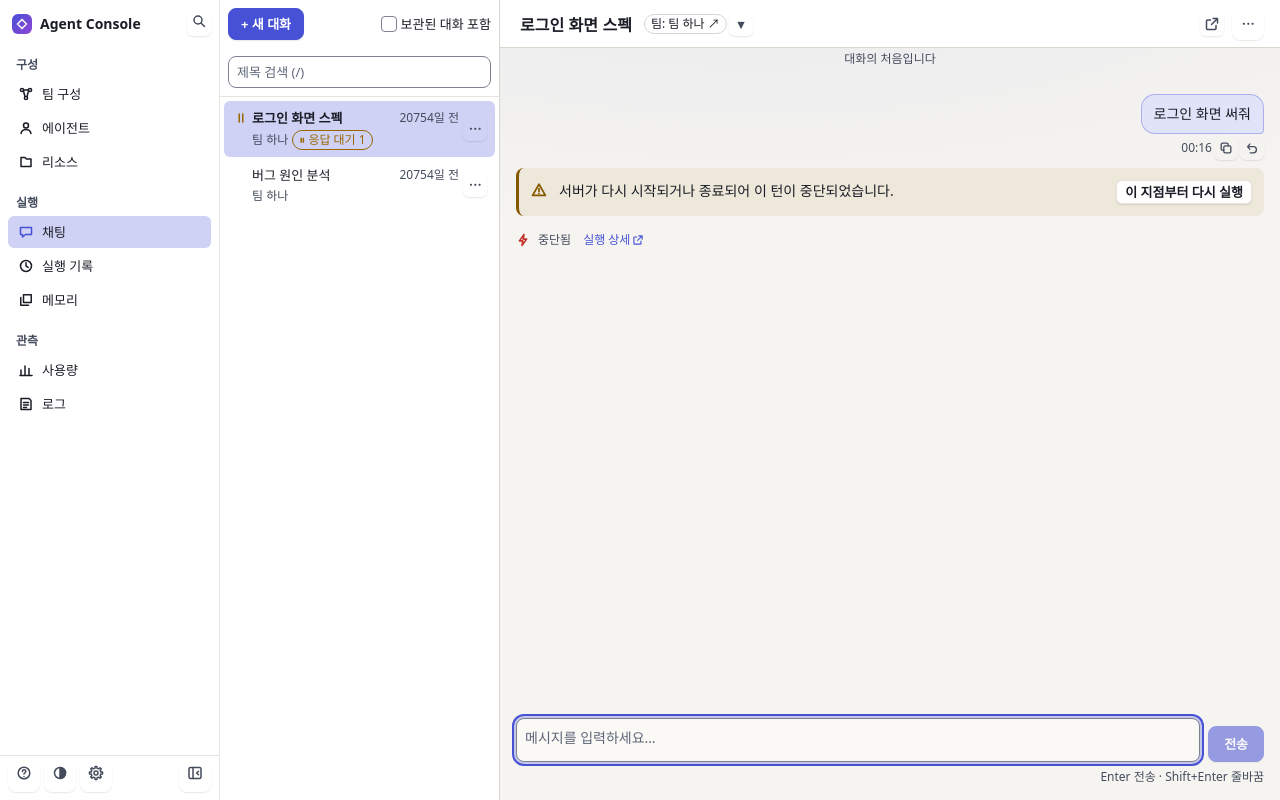
Scenario: 끊긴 턴 이어 가기 › 422는 해당 행에 서버 메시지를 붙이고 체크를 풀며, 선택이 없으면 실행이 비활성
This screenshot has width=1280, height=800.
Click the button "이 지점부터 다시 실행" at (1184,192), box [1116,180,1252,204]
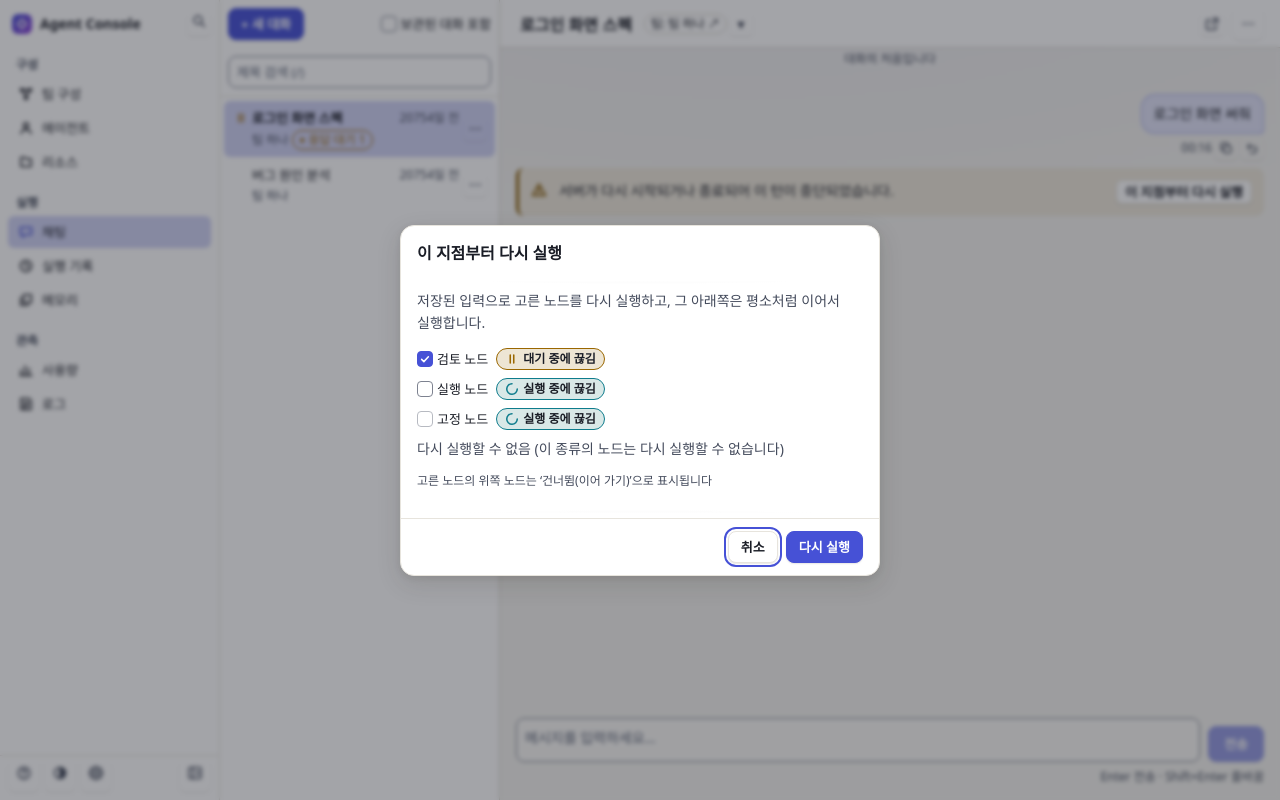
Expected: the checkbox labelled "검토 노드" is shown, [417,350,433,366]
Click the button "다시 실행" at (824,546), box [786,530,863,562]
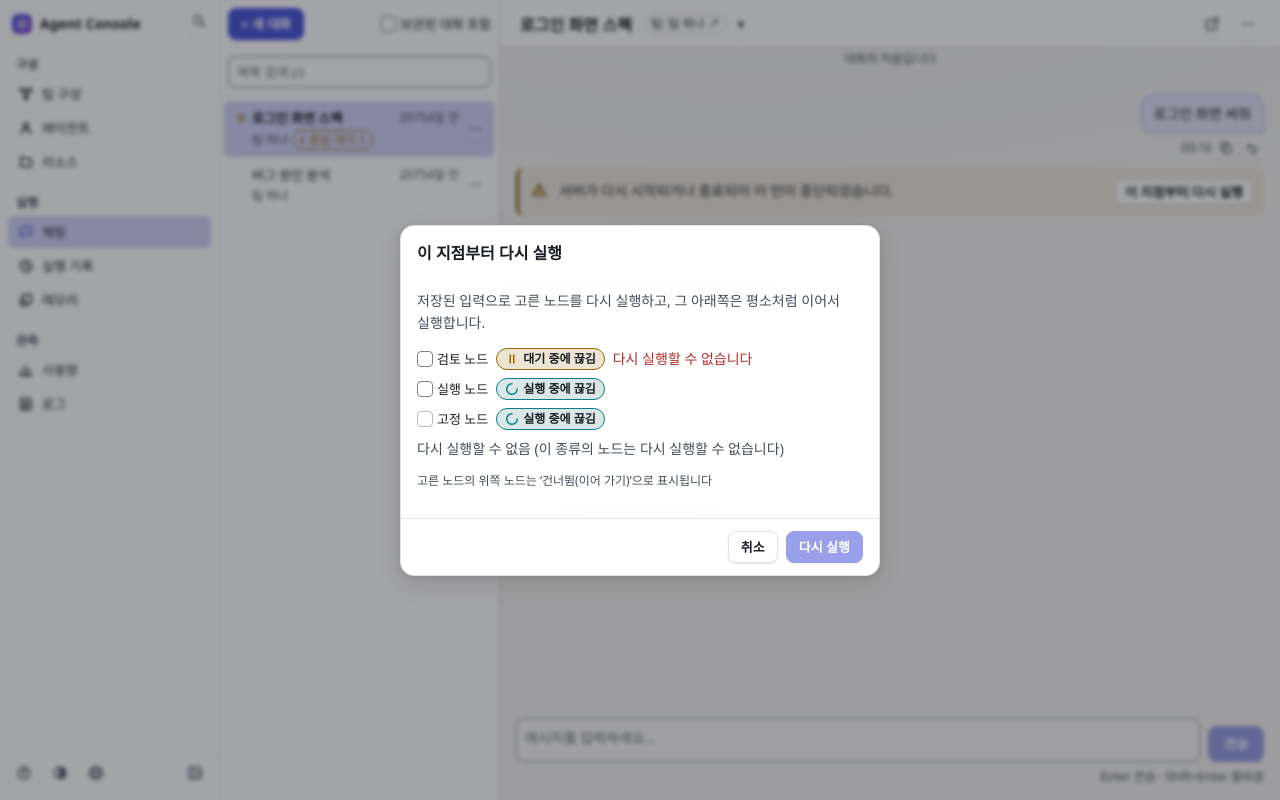
Expected: the text "다시 실행할 수 없습니다" is shown, [613,348,752,370]
Expected: the checkbox labelled "검토 노드" is not checked, [417,350,433,366]
Expected: the button "다시 실행" is disabled, [786,530,863,562]
